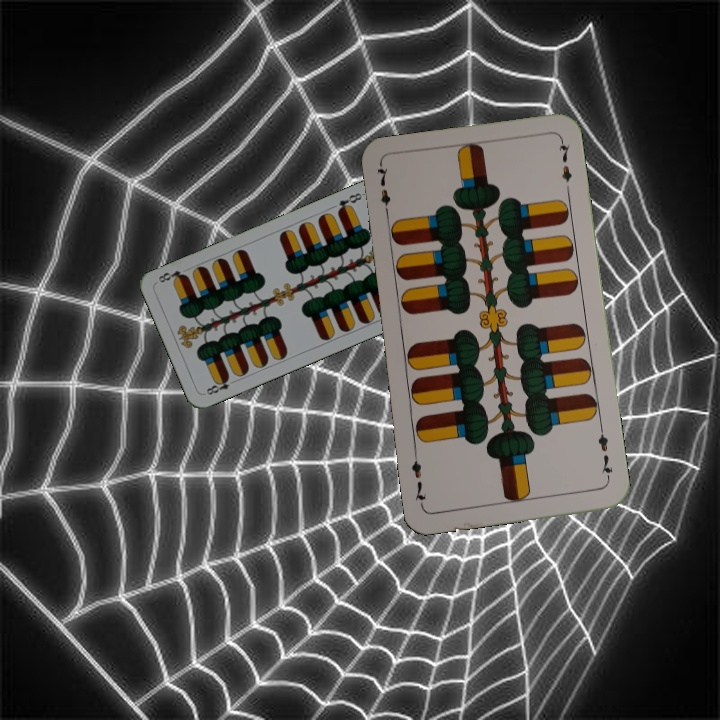E7: (594, 424, 616, 483), (373, 162, 393, 221)
E8: (202, 372, 239, 398), (333, 189, 364, 216)
